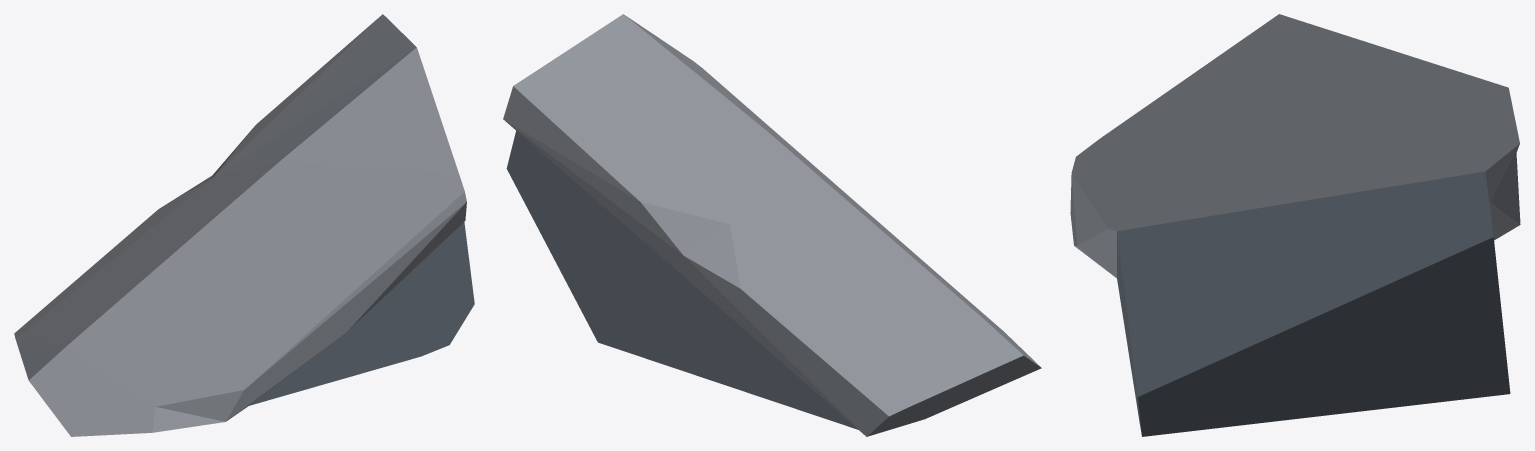
The model's file is WallPiece10.fbx.
The picture shows the model from 3 angles, left to right: view 1: azimuth 30°, elevation 25°; view 2: azimuth 150°, elevation 25°; view 3: azimuth 270°, elevation 25°; orthographic projection. The views are drawn at different scales.
Visible parts, largest first — view 1: WallPiece10; view 2: WallPiece10; view 3: WallPiece10.
Part boxes in pixels (box(x1,y1,x2,y2)): WallPiece10: box(14, 14, 474, 436); WallPiece10: box(503, 14, 1041, 436); WallPiece10: box(1070, 14, 1520, 436).
Size of the model in its own units: 166 by 105 by 90.99.
